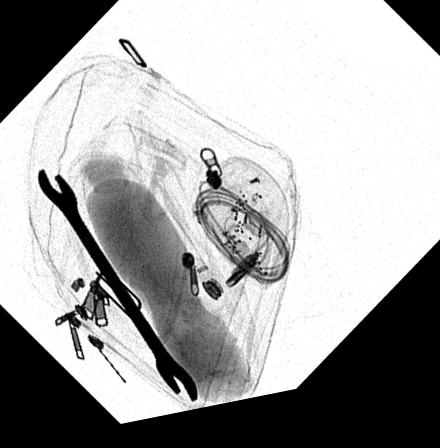Wrench: (36, 167, 200, 412)
